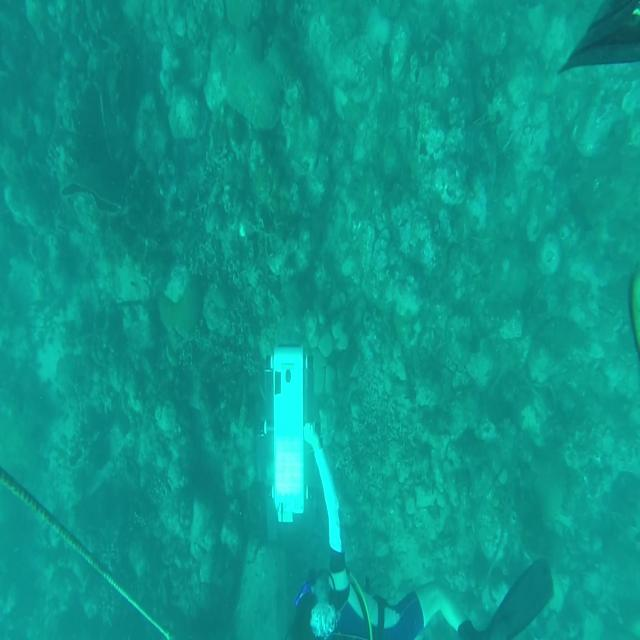human: (286, 419, 554, 638)
